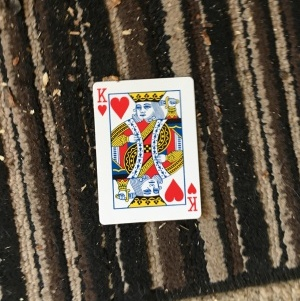card: (89, 75, 204, 226)
